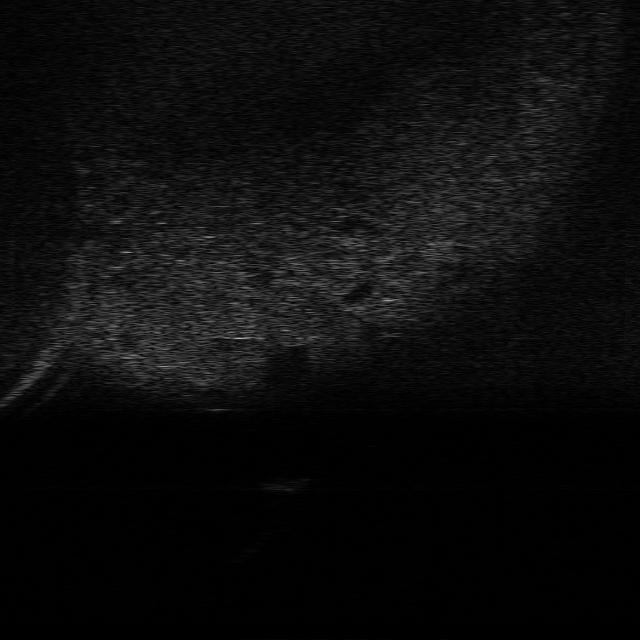cube: (258, 474, 314, 494)
